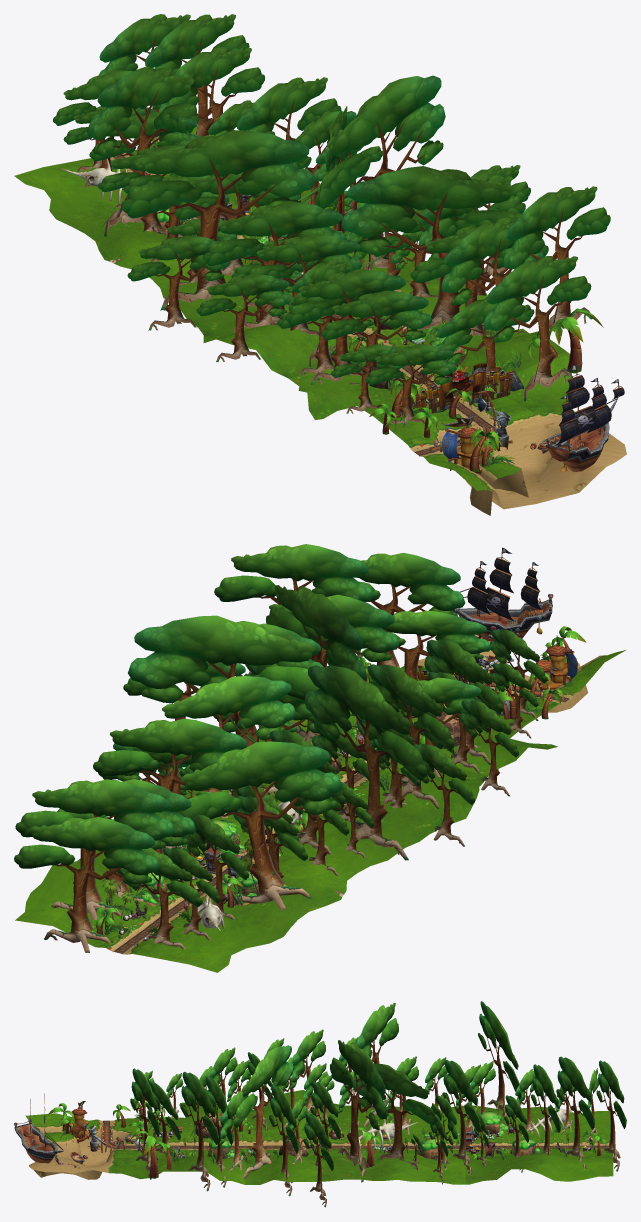
The model's file is game_pirate_adventure_map.glb.
3 renders of one model, top to bottom at view 1: azimuth 30°, elevation 25°; view 2: azimuth 150°, elevation 25°; view 3: azimuth 270°, elevation 25°, orthographic. The views are drawn at different scales.
Parts seen in each view (by area): view 1: hw_zhidao210_peijing_05_hw_peijing_01_0, hw_zhidao210_peijing_03_hw_peijing_01_0, hw_zhidao210_peijing_01_hw_peijing_01_0, hw_wandaoyou_peijing_01_hw_peijing_01_0, hw_wandaoyou_dimian_01_hw_dixing_02_0, hw_zhidao210_dimian_03_hw_dixing_02_0, hw_zhidao210_dimian_01_hw_dixing_02_0, hw_zhidao210_dimian_02_hw_dixing_02_0, hw_wandaoyou_peijing_02_hw_peijing_02_0, hw_zhidao210_peijing_02_hw_peijing_02_0; view 2: hw_zhidao210_peijing_03_hw_peijing_01_0, hw_zhidao210_peijing_01_hw_peijing_01_0, hw_zhidao210_peijing_05_hw_peijing_01_0, hw_wandaoyou_peijing_01_hw_peijing_01_0, hw_zhidao210_dimian_01_hw_dixing_02_0, hw_zhidao210_dimian_02_hw_dixing_02_0, hw_zhidao210_dimian_03_hw_dixing_02_0, hw_wandaoyou_dimian_01_hw_dixing_02_0, hw_zhidao210_peijing_02_hw_peijing_02_0, hw_wandaoyou_peijing_02_hw_peijing_02_0, hw_zhidao210_peijing_04_hw_peijing_02_0, hw_zhidao210_daolu_01_hw_dixing_0 (+1 smaller); view 3: hw_zhidao210_peijing_03_hw_peijing_01_0, hw_zhidao210_peijing_05_hw_peijing_01_0, hw_zhidao210_peijing_01_hw_peijing_01_0, hw_zhidao210_dimian_01_hw_dixing_02_0, hw_zhidao210_dimian_02_hw_dixing_02_0, hw_zhidao210_dimian_03_hw_dixing_02_0, hw_wandaoyou_peijing_01_hw_peijing_01_0, hw_wandaoyou_dimian_01_hw_dixing_02_0, hw_zhidao210_peijing_02_hw_peijing_02_0, hw_wandaoyou_peijing_02_hw_peijing_02_0, hw_zhidao210_peijing_04_hw_peijing_02_0, hw_zhidao210_peijing_06_hw_peijing_02_0 (+1 smaller).
Boxes of the visible parts, <box> form: hw_zhidao210_peijing_05_hw_peijing_01_0: <box>196,166,610,413</box>; hw_zhidao210_peijing_03_hw_peijing_01_0: <box>121,75,530,330</box>; hw_zhidao210_peijing_01_hw_peijing_01_0: <box>53,14,275,238</box>; hw_wandaoyou_peijing_01_hw_peijing_01_0: <box>365,256,624,472</box>; hw_wandaoyou_dimian_01_hw_dixing_02_0: <box>370,351,626,515</box>; hw_zhidao210_dimian_03_hw_dixing_02_0: <box>205,283,566,419</box>; hw_zhidao210_dimian_01_hw_dixing_02_0: <box>14,126,320,260</box>; hw_zhidao210_dimian_02_hw_dixing_02_0: <box>109,202,439,342</box>; hw_wandaoyou_peijing_02_hw_peijing_02_0: <box>434,384,513,474</box>; hw_zhidao210_peijing_02_hw_peijing_02_0: <box>60,158,250,234</box>; hw_zhidao210_peijing_03_hw_peijing_01_0: <box>93,615,474,876</box>; hw_zhidao210_peijing_01_hw_peijing_01_0: <box>14,741,342,952</box>; hw_zhidao210_peijing_05_hw_peijing_01_0: <box>214,544,538,808</box>; hw_wandaoyou_peijing_01_hw_peijing_01_0: <box>353,547,586,720</box>; hw_zhidao210_dimian_01_hw_dixing_02_0: <box>15,850,341,972</box>; hw_zhidao210_dimian_02_hw_dixing_02_0: <box>162,783,465,896</box>; hw_zhidao210_dimian_03_hw_dixing_02_0: <box>259,710,557,818</box>; hw_wandaoyou_dimian_01_hw_dixing_02_0: <box>367,634,625,728</box>; hw_zhidao210_peijing_02_hw_peijing_02_0: <box>133,848,259,946</box>; hw_wandaoyou_peijing_02_hw_peijing_02_0: <box>458,635,577,697</box>; hw_zhidao210_peijing_04_hw_peijing_02_0: <box>205,801,346,868</box>; hw_zhidao210_daolu_01_hw_dixing_0: <box>114,872,228,953</box>; hw_zhidao210_peijing_03_hw_peijing_01_0: <box>303,1003,480,1207</box>; hw_zhidao210_peijing_05_hw_peijing_01_0: <box>166,1029,328,1196</box>; hw_zhidao210_peijing_01_hw_peijing_01_0: <box>455,1001,626,1172</box>; hw_zhidao210_dimian_01_hw_dixing_02_0: <box>465,1105,613,1184</box>; hw_zhidao210_dimian_02_hw_dixing_02_0: <box>317,1103,465,1184</box>; hw_zhidao210_dimian_03_hw_dixing_02_0: <box>169,1090,317,1184</box>; hw_wandaoyou_peijing_01_hw_peijing_01_0: <box>14,1068,180,1179</box>; hw_wandaoyou_dimian_01_hw_dixing_02_0: <box>25,1113,169,1179</box>; hw_zhidao210_peijing_02_hw_peijing_02_0: <box>465,1105,580,1158</box>; hw_wandaoyou_peijing_02_hw_peijing_02_0: <box>65,1101,169,1152</box>; hw_zhidao210_peijing_04_hw_peijing_02_0: <box>329,1119,460,1159</box>; hw_zhidao210_peijing_06_hw_peijing_02_0: <box>195,1113,308,1158</box>.
Size of the model in its own units: 41661 by 23399 by 86937.
Materials: 16 (16 with a texture image).
